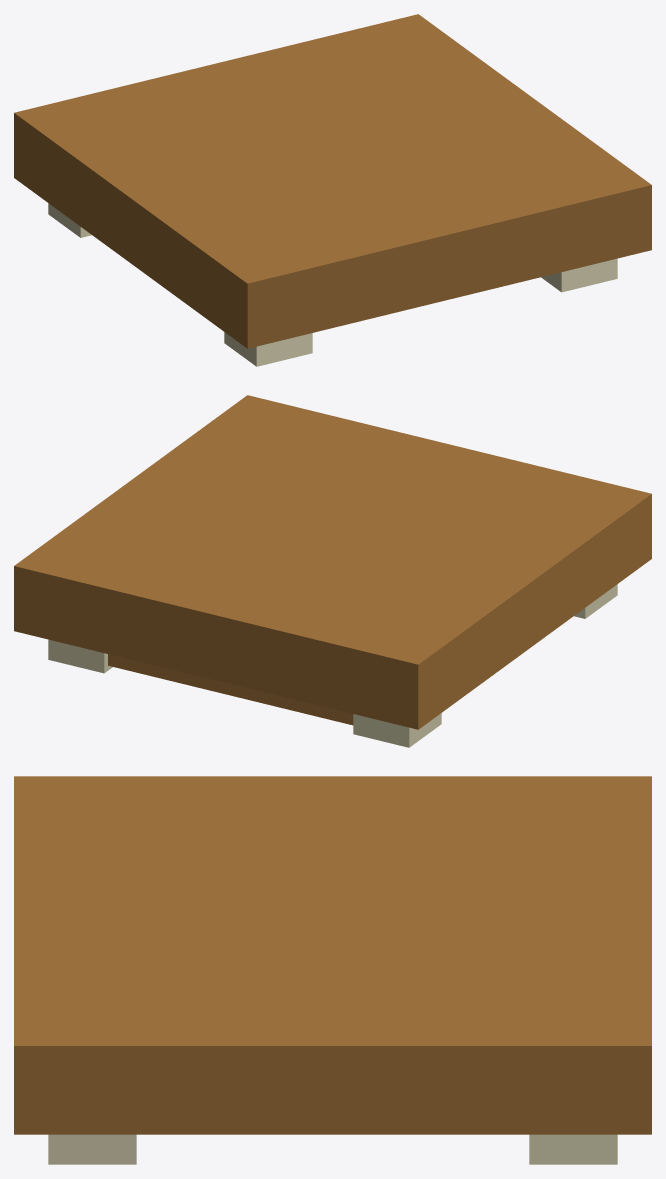
Rendered from C_DrinkerBase.fbx.
3 views of the same model, one above another, from view 1: azimuth 30°, elevation 25°; view 2: azimuth 150°, elevation 25°; view 3: azimuth 270°, elevation 25° (orthographic). The views are drawn at different scales.
Parts seen in each view (by area): view 1: C_DrinkerBase.007; view 2: C_DrinkerBase.007; view 3: C_DrinkerBase.007.
Boxes of the visible parts, <box> form: C_DrinkerBase.007: <box>14,14,651,366</box>; C_DrinkerBase.007: <box>14,395,651,747</box>; C_DrinkerBase.007: <box>14,776,651,1164</box>.
Size of the model in its own units: 0.65 by 0.15 by 0.65.
